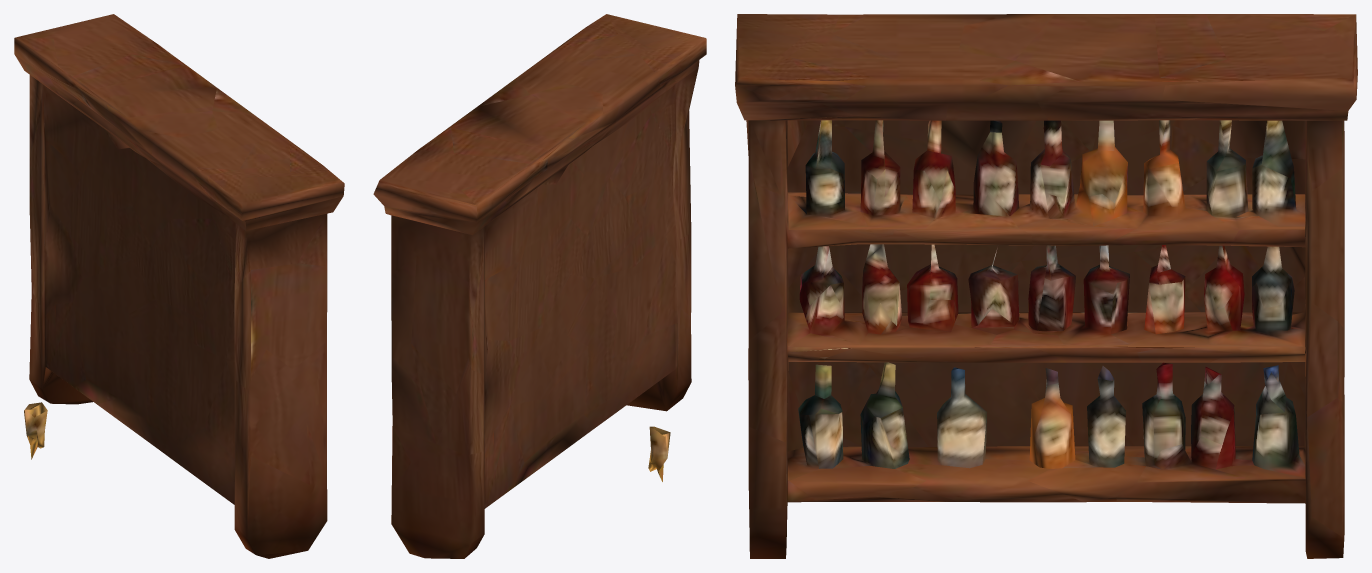
Rendered from 酒瓶陈列架.glb.
The picture shows the model from 3 angles, left to right: view 1: azimuth 30°, elevation 25°; view 2: azimuth 150°, elevation 25°; view 3: azimuth 270°, elevation 25°; orthographic projection. The views are drawn at different scales.
Parts seen in each view (by area): view 1: tripo_node_52456307-3302-499a-af94-e5c7319ed62b; view 2: tripo_node_52456307-3302-499a-af94-e5c7319ed62b; view 3: tripo_node_52456307-3302-499a-af94-e5c7319ed62b.
Boxes of the visible parts, left/top/right/bottom form: tripo_node_52456307-3302-499a-af94-e5c7319ed62b: left=14, top=14, right=344, bottom=558; tripo_node_52456307-3302-499a-af94-e5c7319ed62b: left=373, top=14, right=706, bottom=558; tripo_node_52456307-3302-499a-af94-e5c7319ed62b: left=735, top=14, right=1357, bottom=558.
Size of the model in its own units: 0.482 by 0.8851 by 0.9999.
Materials: 1 (1 with a texture image).
